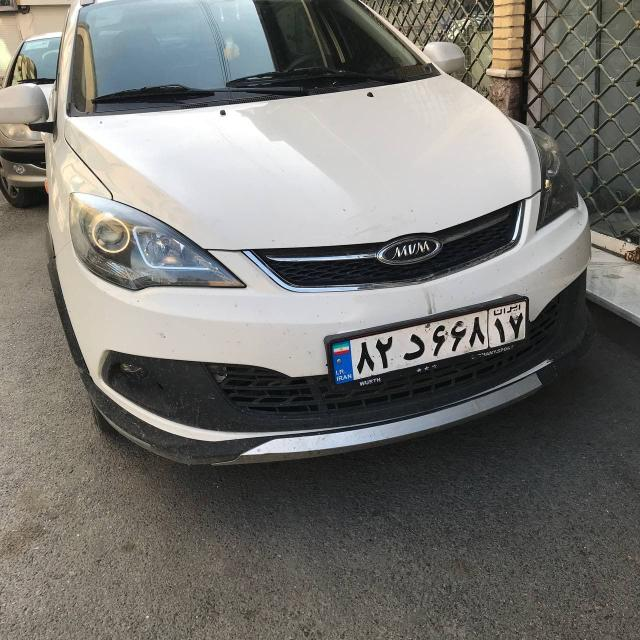Plates: (325, 293, 536, 386)
